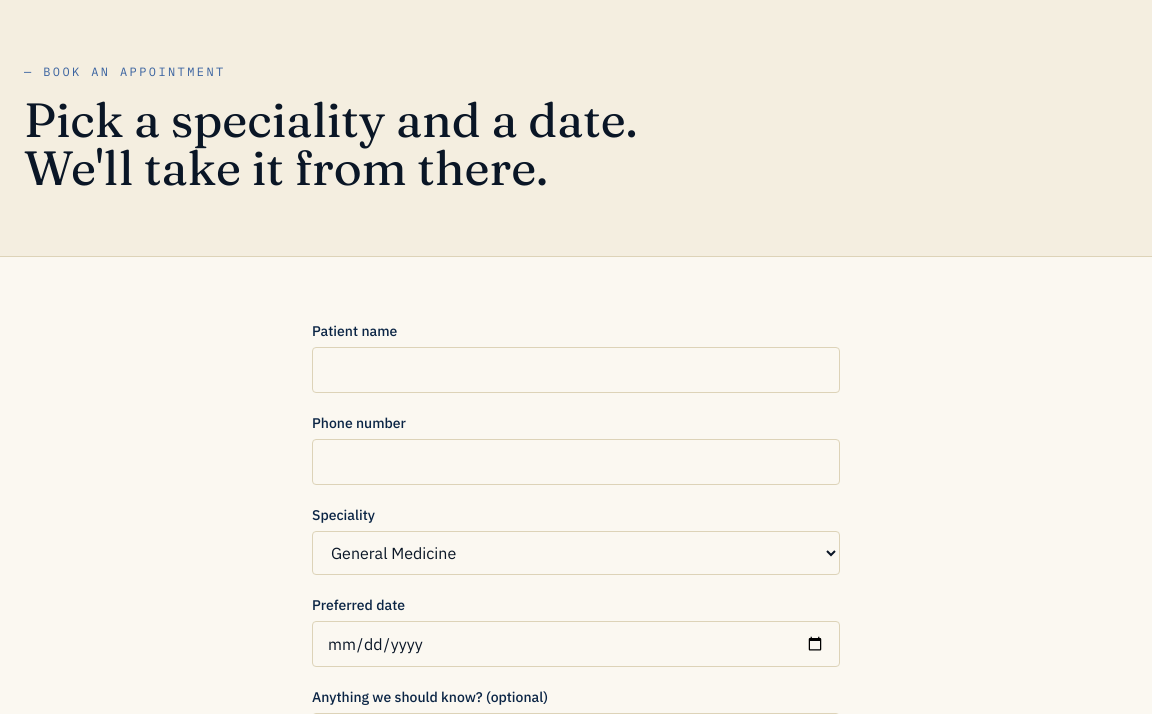
Scenario: BookAppointmentPage › confirms a guest booking and nudges toward creating an account
Type "Jordan Patient" into the field labelled "Patient name" at (576, 370), box [312,347,840,393]
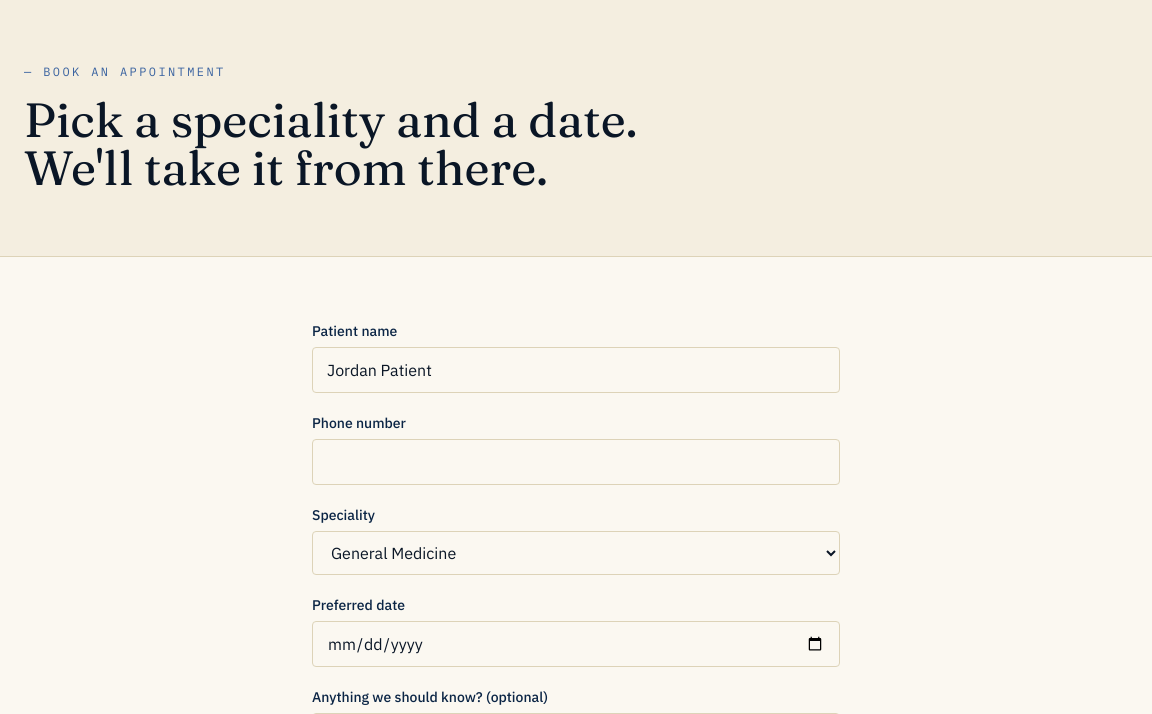
Type "9876543210" into the field labelled "Phone number" at (576, 462), box [312,439,840,485]
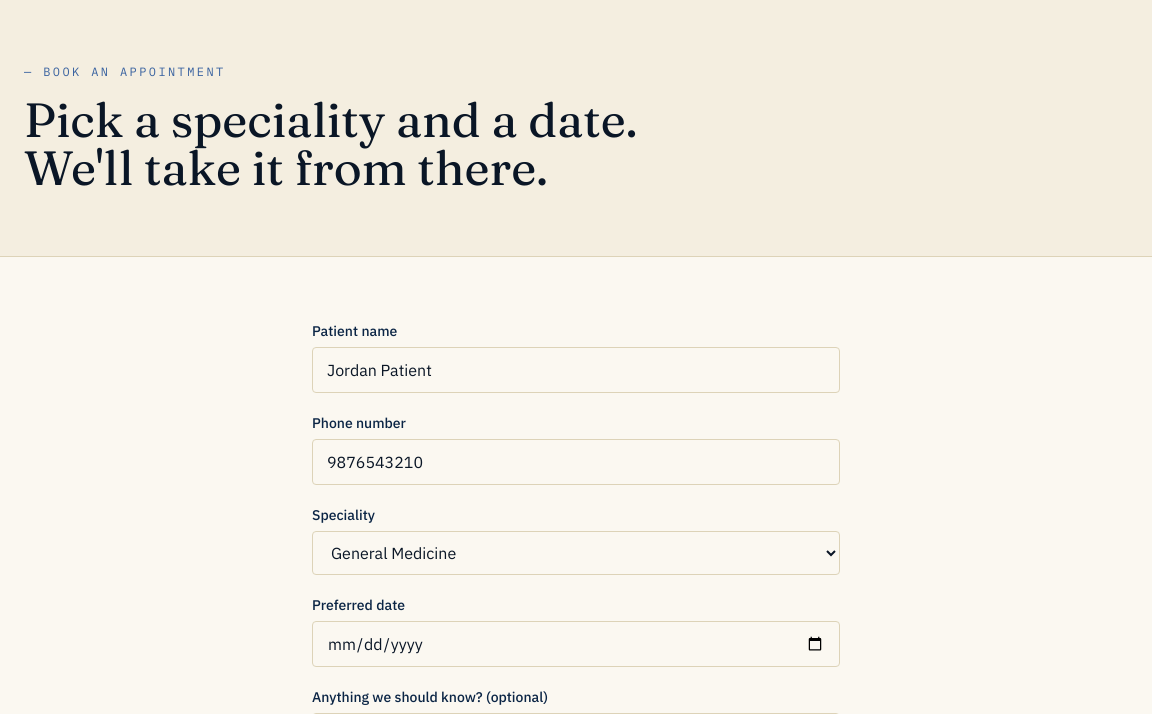
Type "2030-01-15" into the date field labelled "Preferred date" at (576, 644), box [312,621,840,667]
(page scrolled)
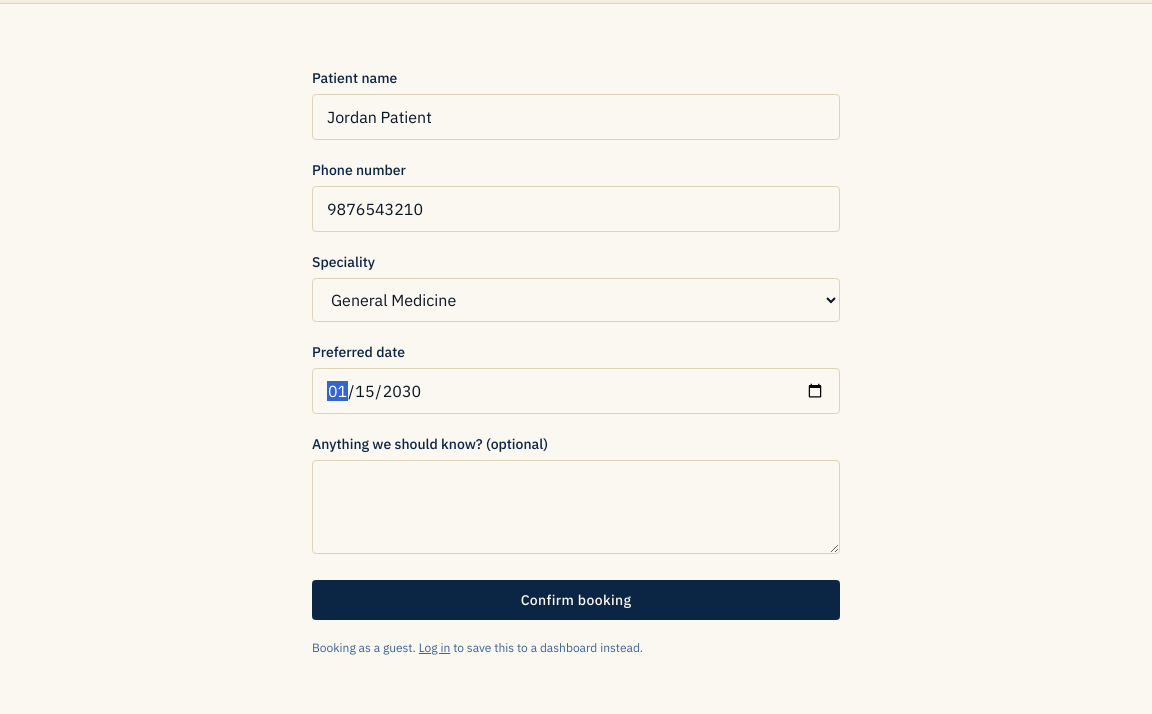
Click the button "Confirm booking" at (576, 600), box [312,580,840,620]
(page scrolled)
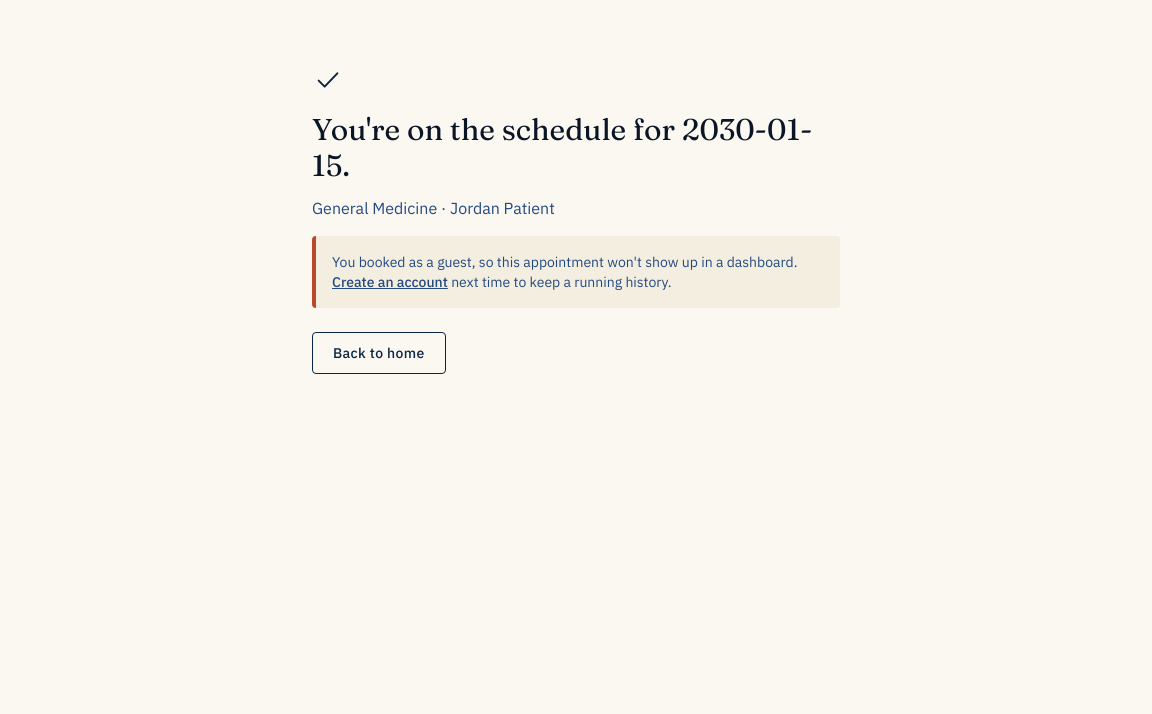
Check: the heading "You're on the schedule for 2030-01-15." is shown, box [312,112,840,184]
Check: the text "You booked as a guest" is shown, box [332,253,798,271]
